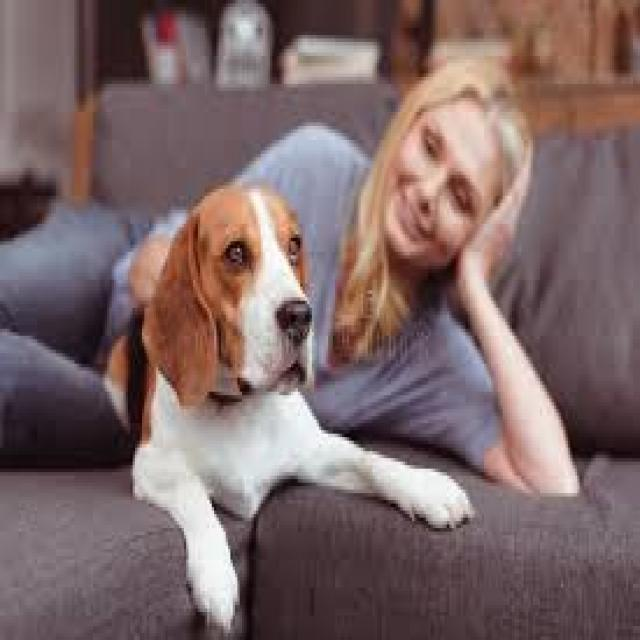Dog: (100, 177, 479, 640)
